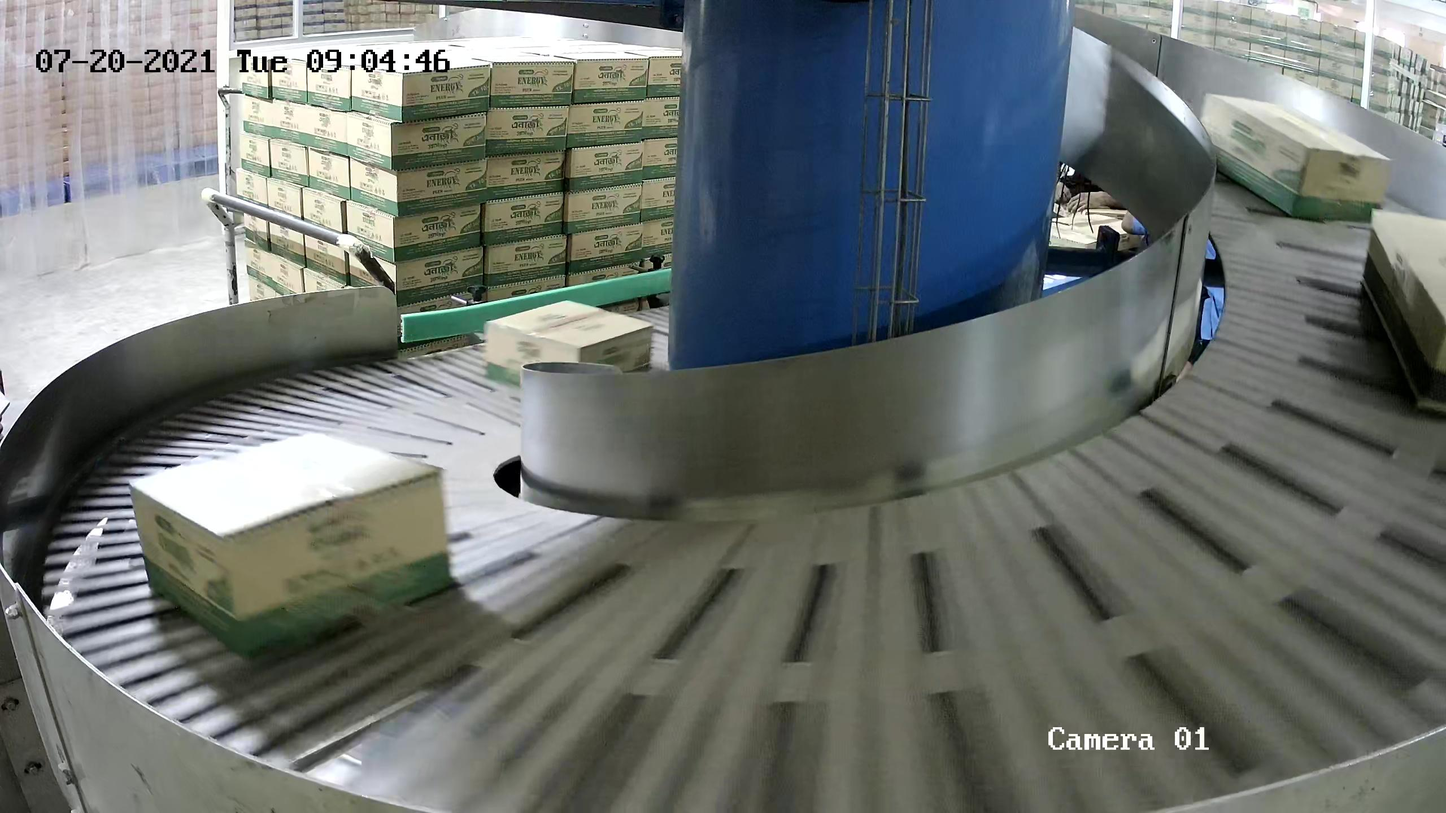Box: (126, 429, 462, 660), (1196, 89, 1393, 222), (1360, 206, 1446, 418), (483, 298, 655, 389)
